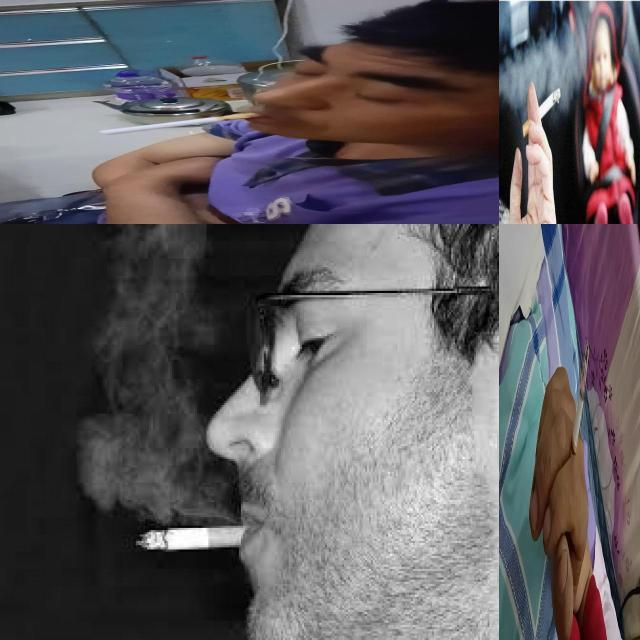smoking: (136, 524, 262, 552), (99, 114, 264, 134), (568, 340, 590, 482), (522, 88, 560, 138)
